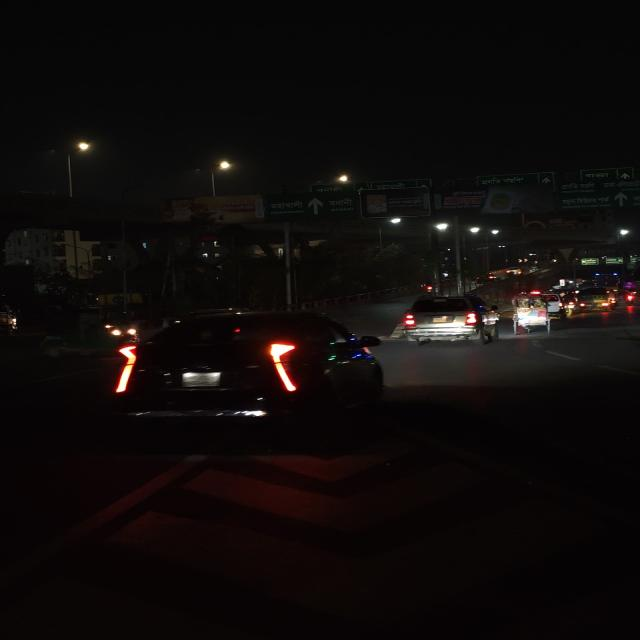car: (110, 308, 372, 430), (392, 294, 501, 346), (542, 293, 566, 316)
pickup_van: (570, 286, 616, 314)
rickshaw: (508, 298, 555, 332)
